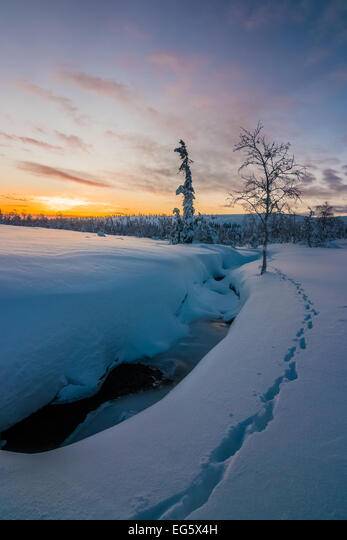fox: (206, 430, 242, 469), (263, 380, 284, 402)
